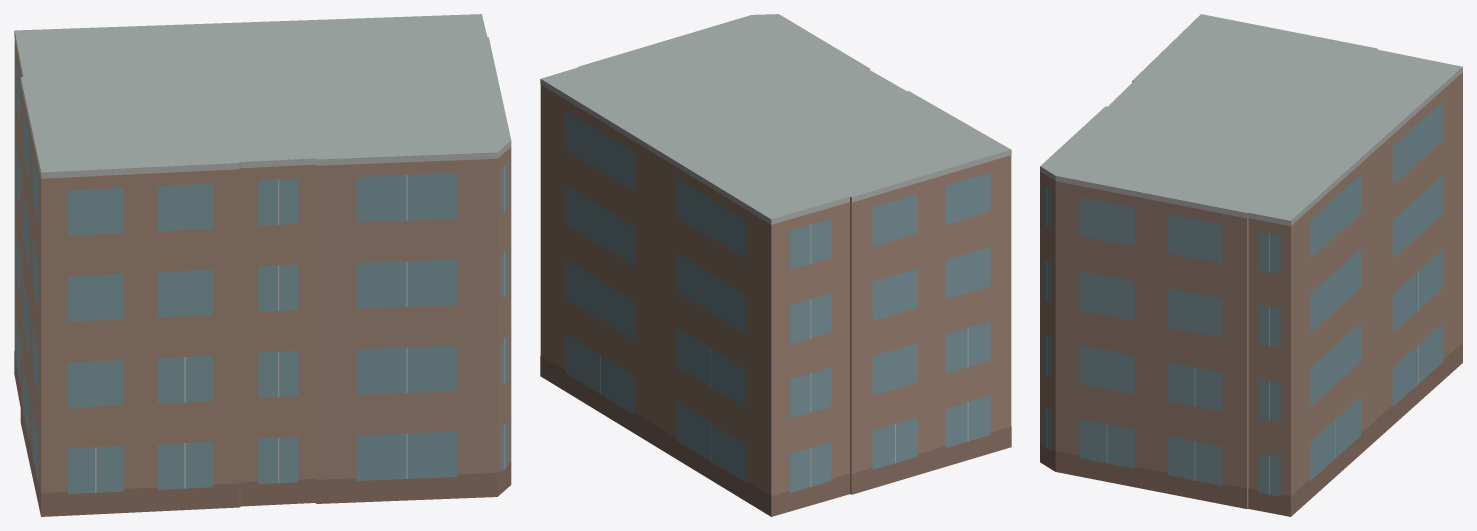
File: survey-upis-32636777.glb
3 renders of one model, left to right at view 1: azimuth 30°, elevation 25°; view 2: azimuth 150°, elevation 25°; view 3: azimuth 270°, elevation 25°, orthographic. The views are drawn at different scales.
Visible parts, largest first — view 1: survey-upis-32636777.tmp; view 2: survey-upis-32636777.tmp; view 3: survey-upis-32636777.tmp.
Boxes of the visible parts, x1,y1,x2,y2 form: survey-upis-32636777.tmp: (14,14,511,516); survey-upis-32636777.tmp: (540,14,1011,516); survey-upis-32636777.tmp: (1040,14,1462,516).
Bounding box in the file's own units: 20.16 × 13.45 × 17.41.
